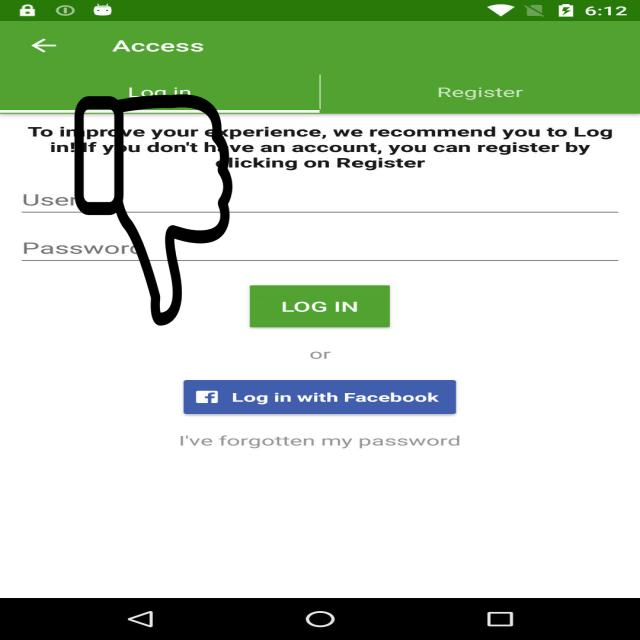obstruction: (72, 94, 235, 326)
